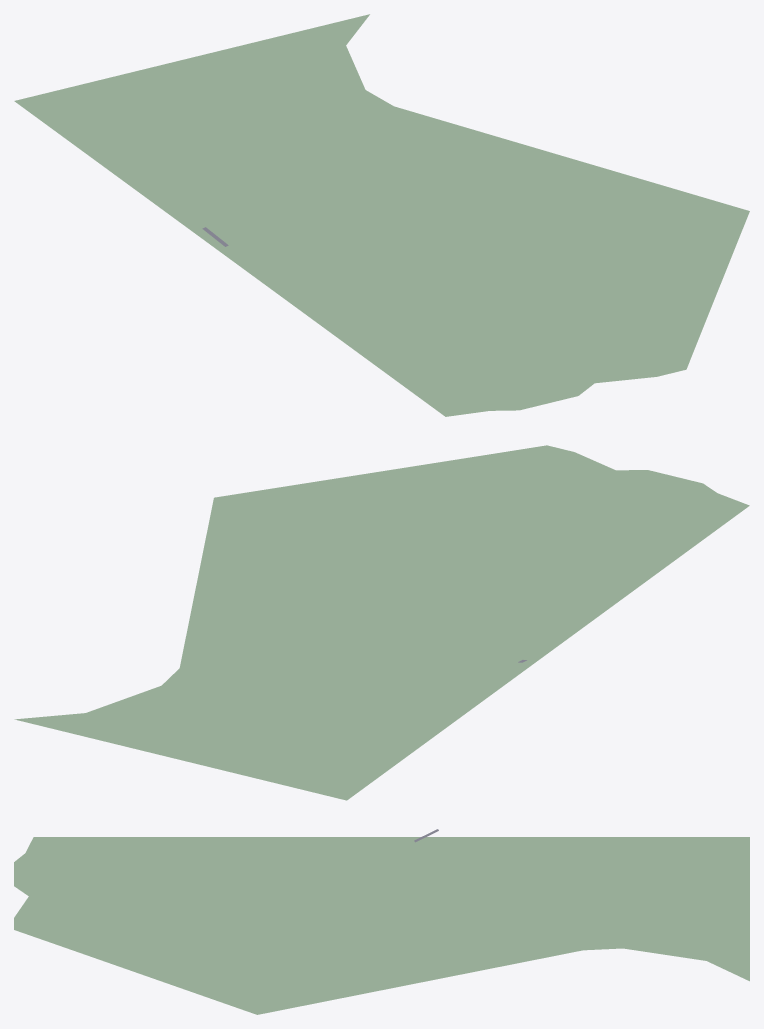
The model's file is 105_110_mid.glb.
The picture shows the model from 3 angles, top to bottom: view 1: azimuth 30°, elevation 25°; view 2: azimuth 150°, elevation 25°; view 3: azimuth 270°, elevation 25°; orthographic projection. The views are drawn at different scales.
Bounding box in the file's own units: 286 × 6.25 × 500.
